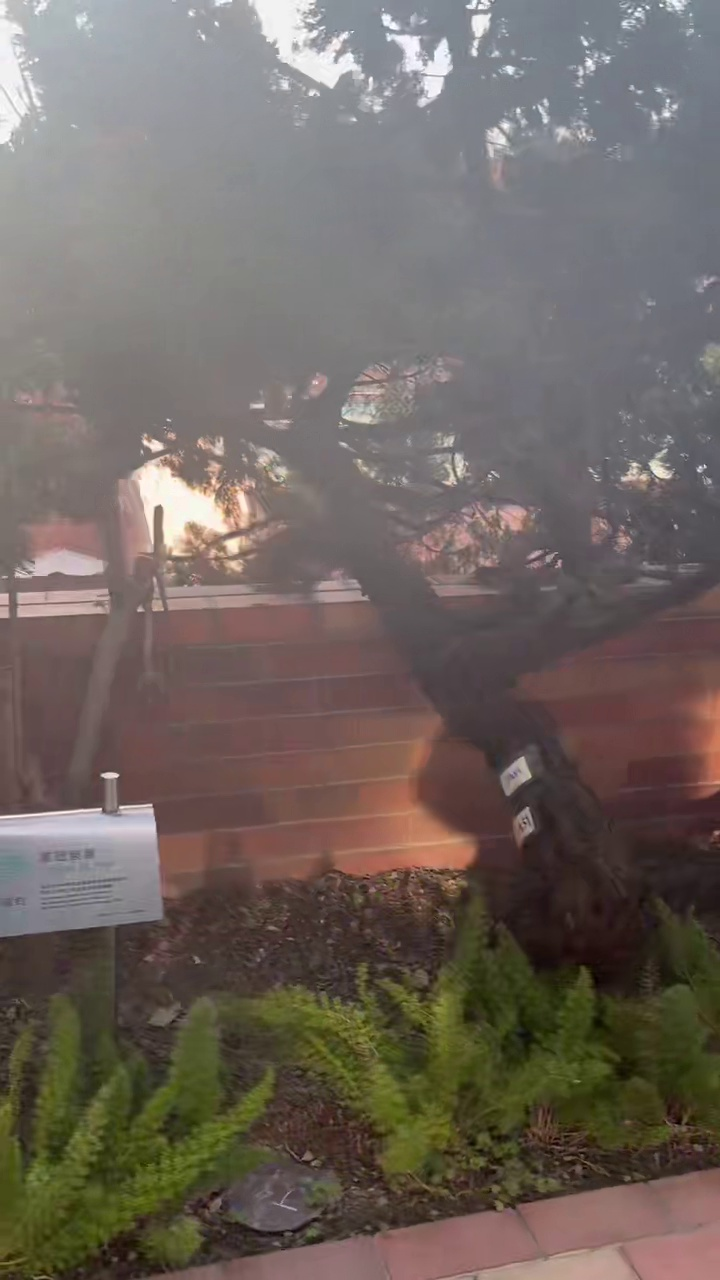Juniperus chinensis: (0, 0, 719, 952)
